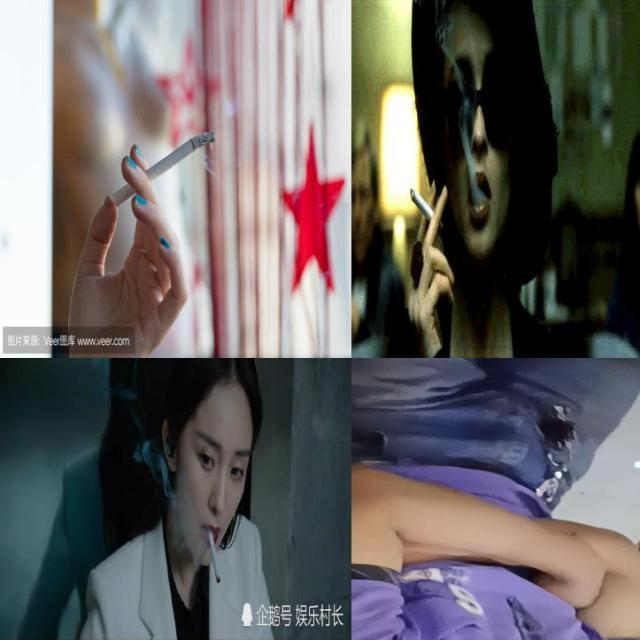cigarette: (112, 132, 216, 208), (408, 184, 444, 233), (205, 525, 222, 586)
